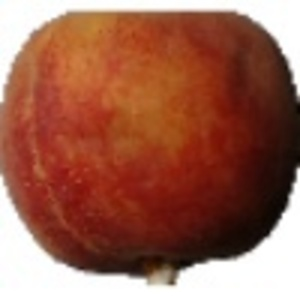pêssego: (1, 7, 300, 289)
